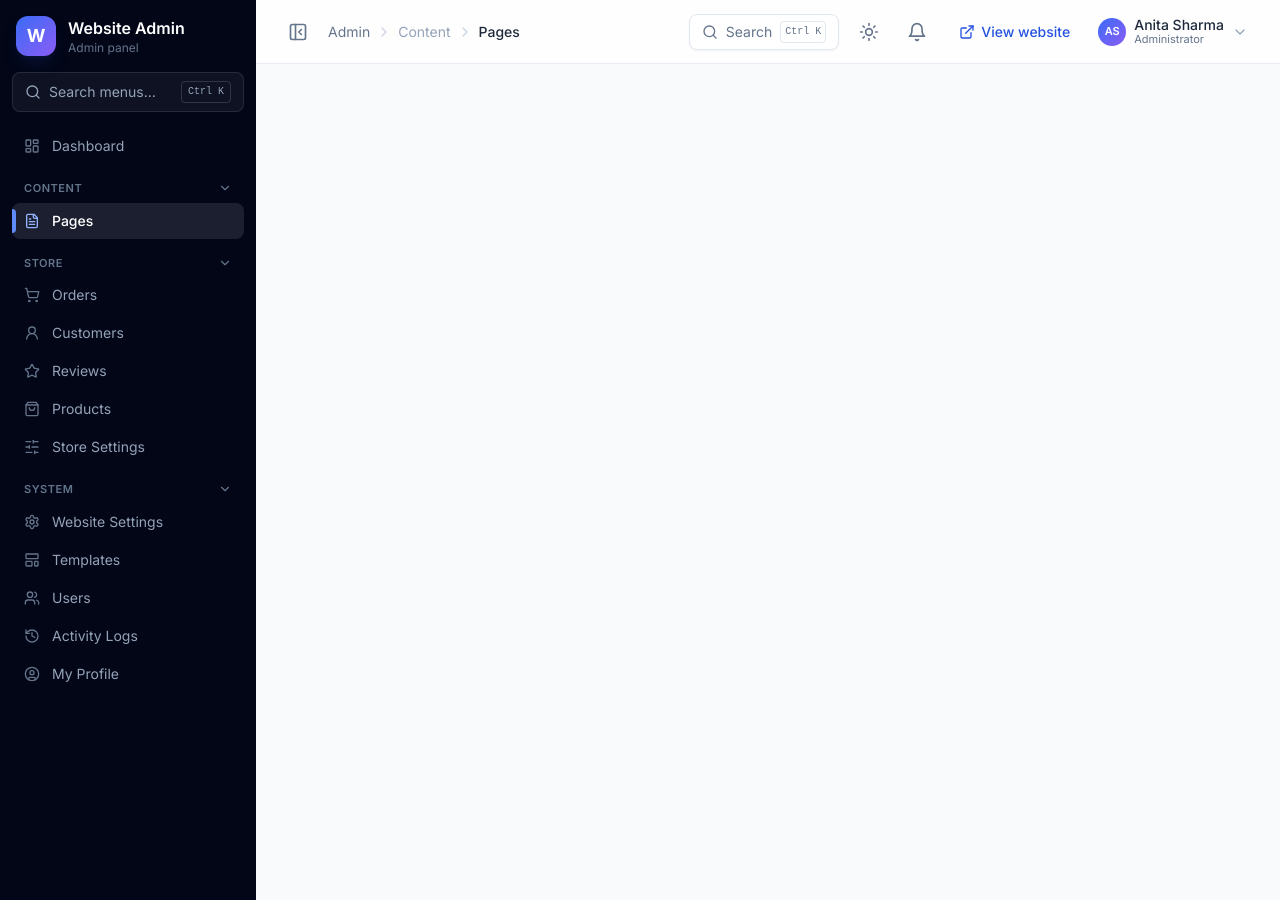
Layout › Ctrl+K quick search jaata hai
Press k
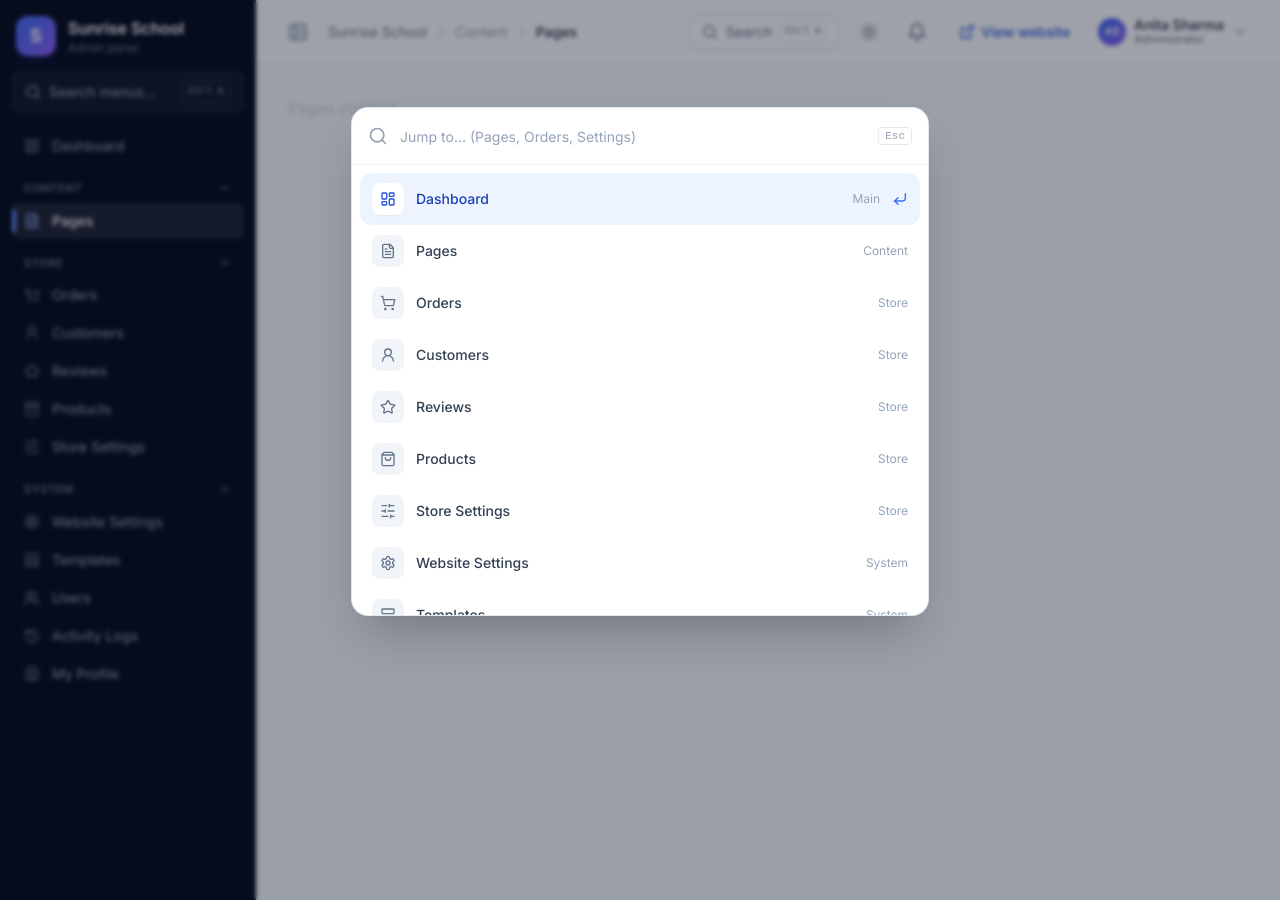
Type "prod" into the field named "Search menus".
click(633, 136); type("prod")  # box [400,108,866,164]
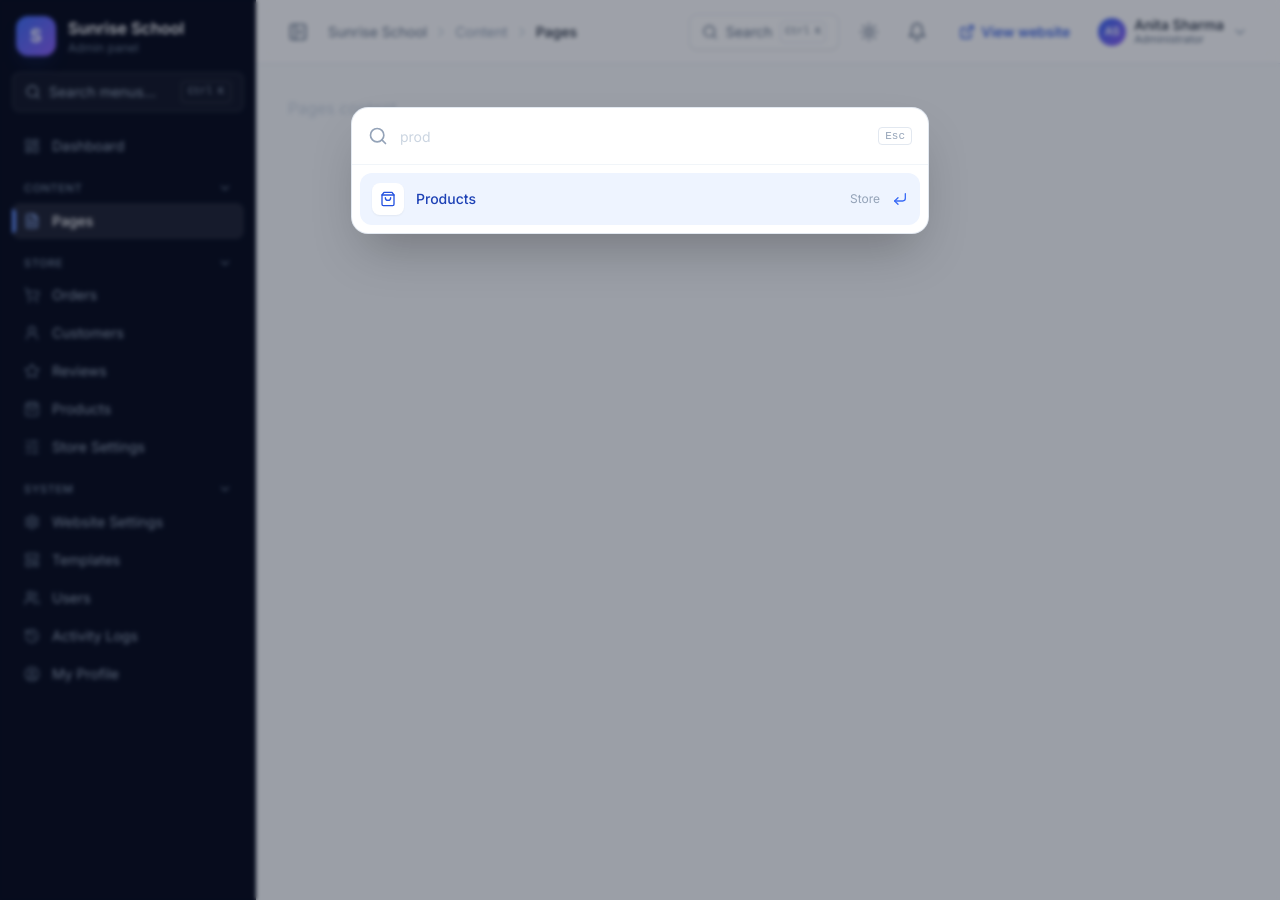
Press Enter in the field named "Search menus", box [400,108,866,164]
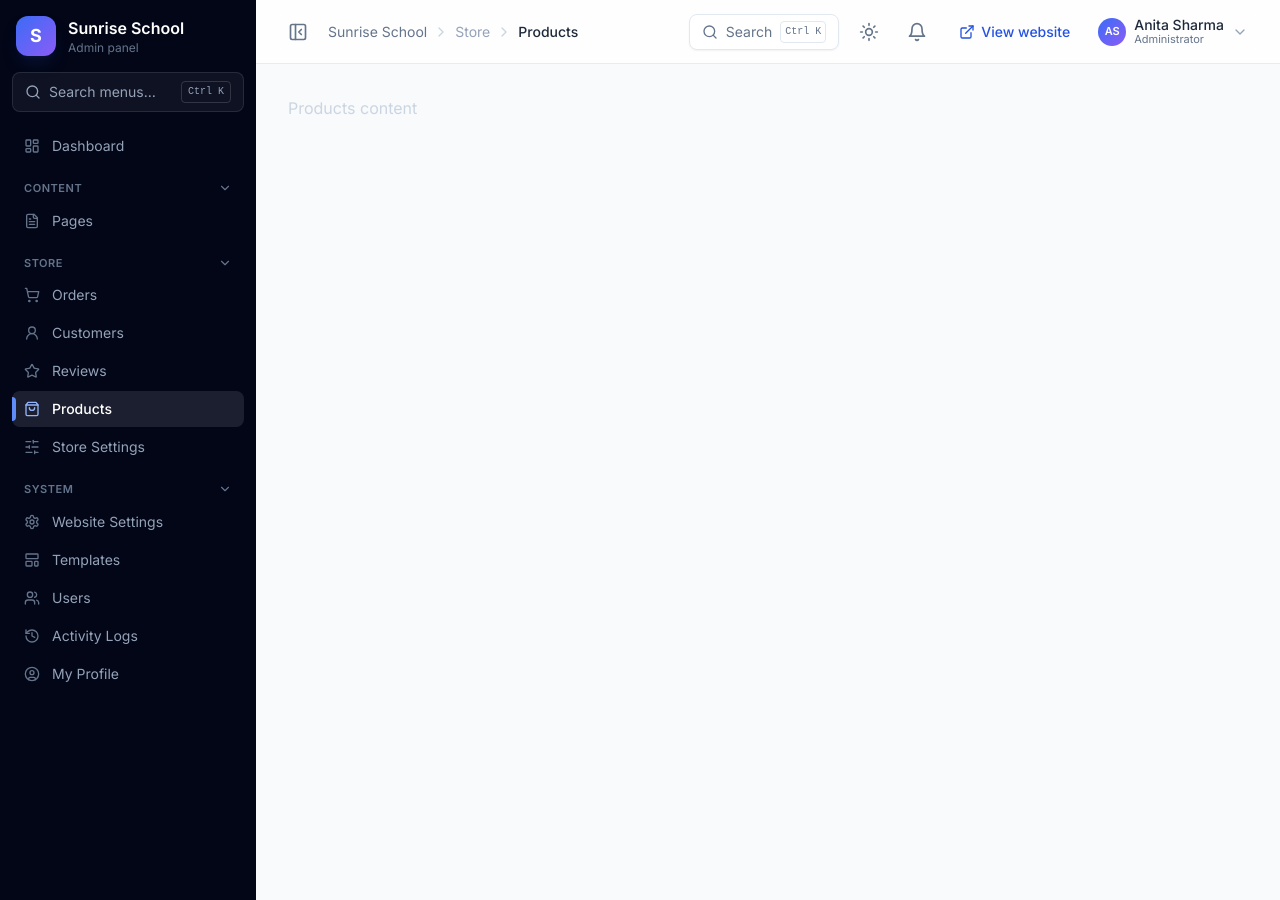
expect the text "Products content" is shown: met, box [288,98,417,118]
